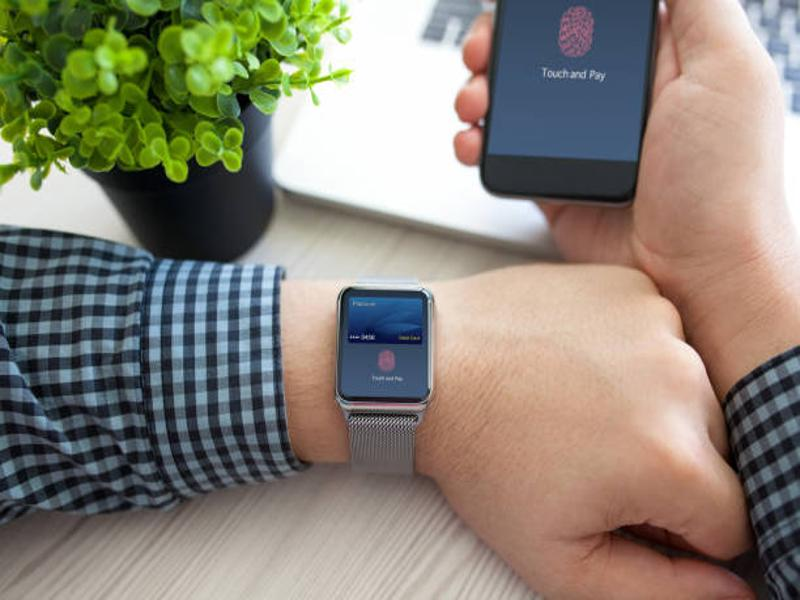watch: (334, 276, 439, 480)
